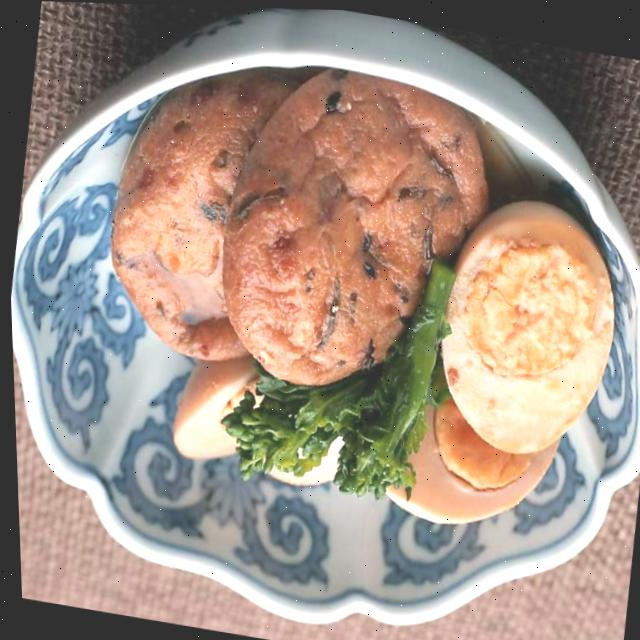熟制海鲜: (0, 11, 640, 552)
